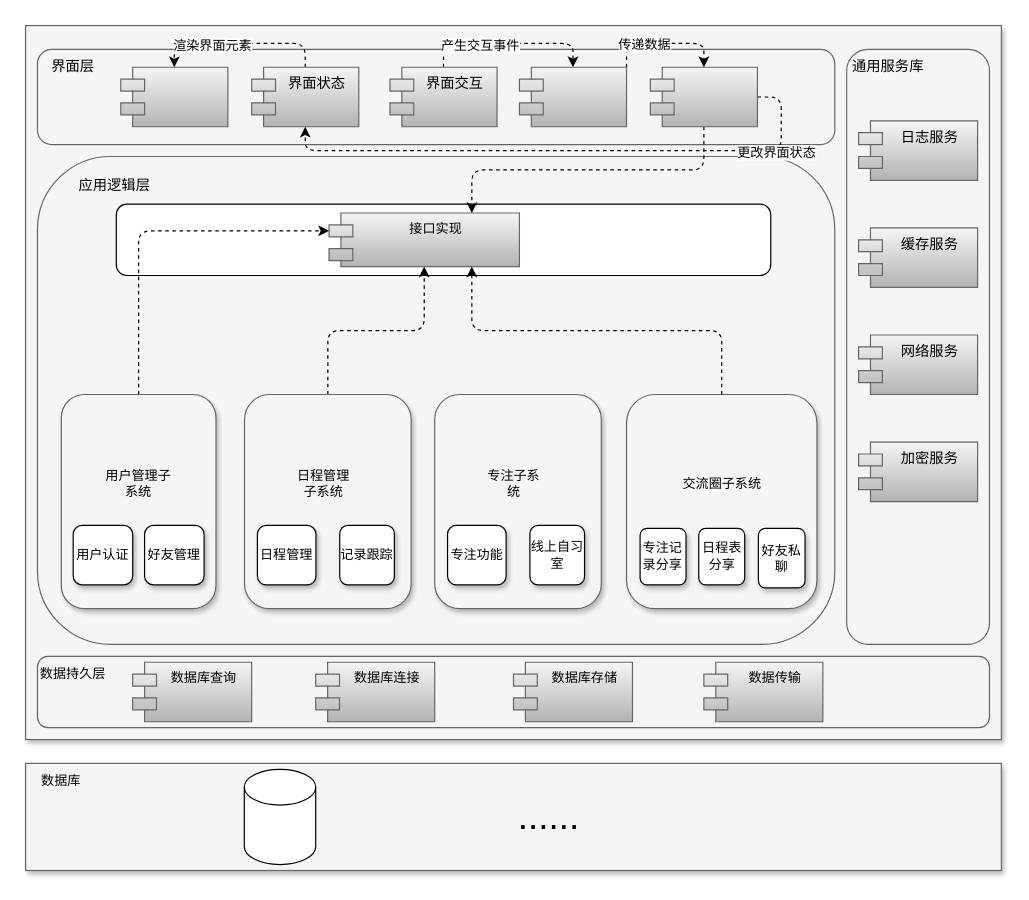
This 1029x900 diagram has some shape labels left out. The centre of each missing label's shape, as x and y in pixels:
Oracle: the point at 279,816
接口调用: the point at 703,96
数据处理: the point at 572,96
界面元素: the point at 174,96
